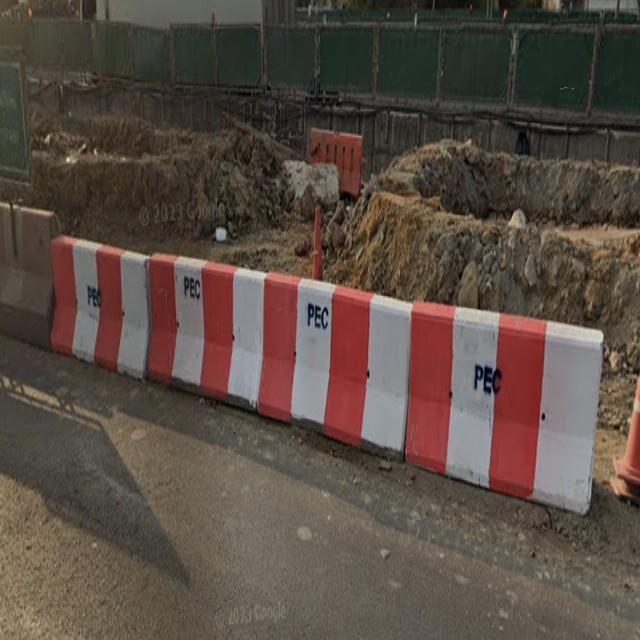fallen_object: (386, 292, 606, 513), (258, 247, 418, 480), (117, 220, 284, 419), (26, 225, 149, 378), (0, 189, 73, 346)
